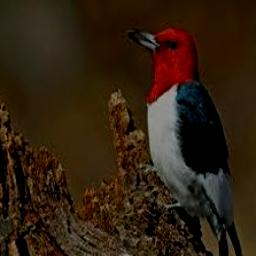Woodpecker: (129, 27, 243, 256)
